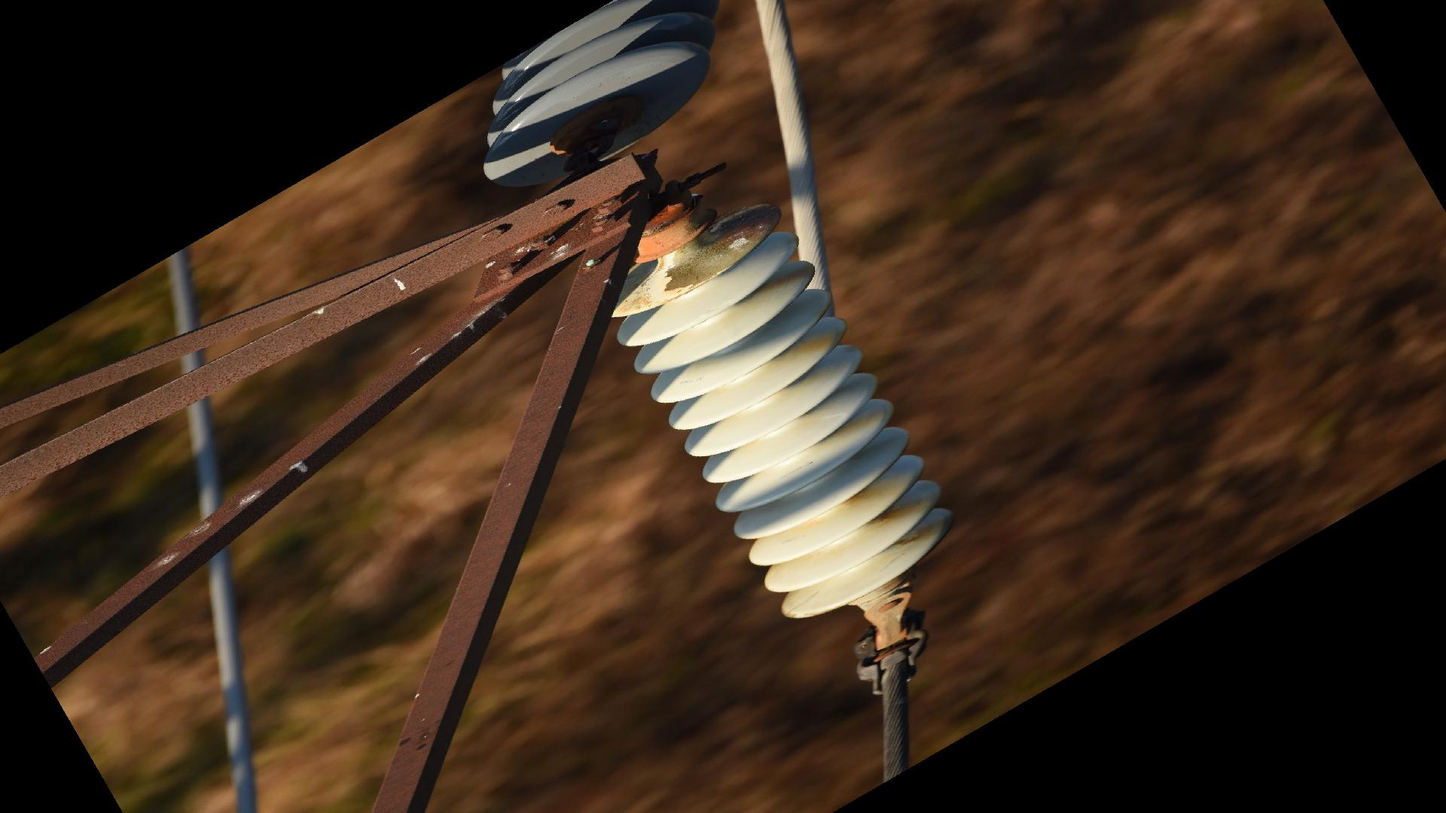insulator: (607, 199, 962, 630), (478, 1, 727, 193)
insulator_flashover: (664, 196, 786, 297)
